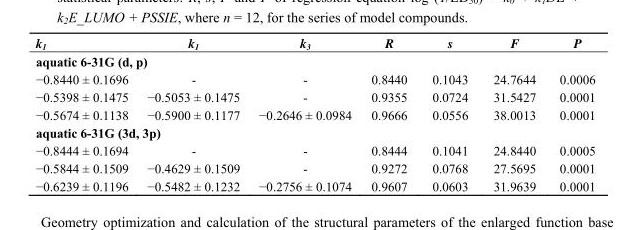table: (34, 34, 594, 193)
table column: (248, 34, 360, 193), (137, 34, 248, 193), (34, 34, 137, 193), (480, 34, 547, 193), (418, 34, 480, 193), (360, 34, 418, 193), (547, 34, 594, 193)
table column header: (34, 34, 594, 52)
table projected row header: (34, 123, 594, 141), (34, 52, 594, 69)
table row: (34, 34, 594, 52), (34, 69, 594, 87), (34, 87, 594, 105), (34, 105, 594, 123), (34, 123, 594, 141), (34, 141, 594, 159), (34, 52, 594, 69), (34, 159, 594, 176), (34, 176, 594, 193)
